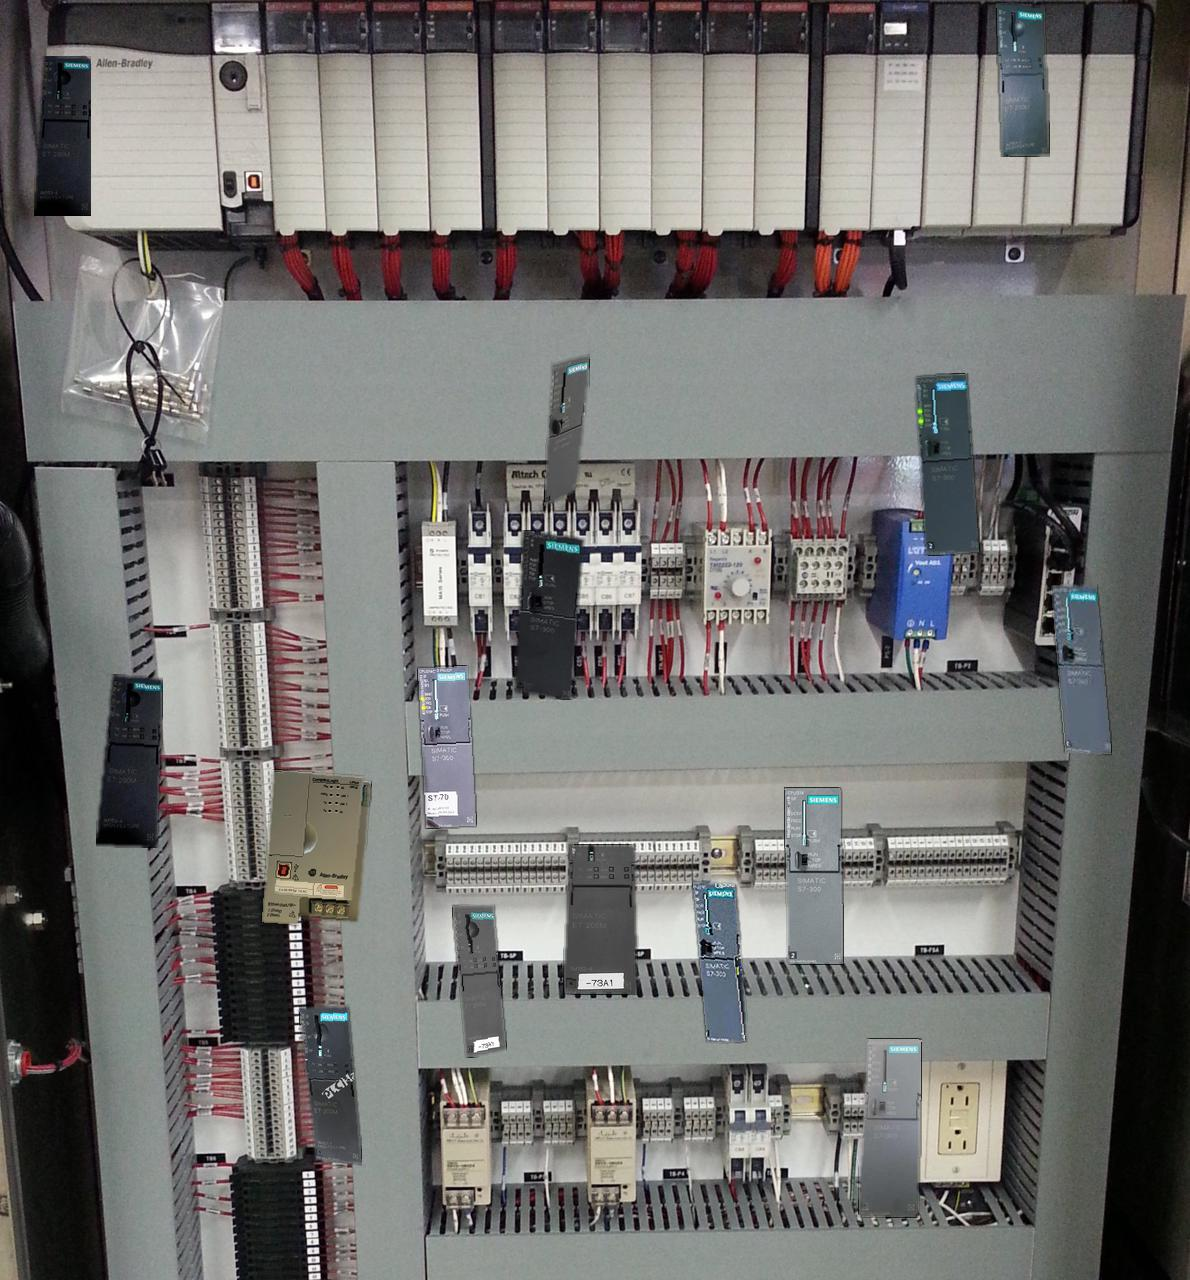AllenBradley: (262, 770, 370, 925)
Siemens: (514, 531, 583, 698), (916, 373, 977, 554), (858, 1039, 920, 1216), (784, 788, 843, 963), (1052, 585, 1109, 753), (418, 666, 475, 827), (693, 882, 746, 1041), (544, 355, 589, 505)
